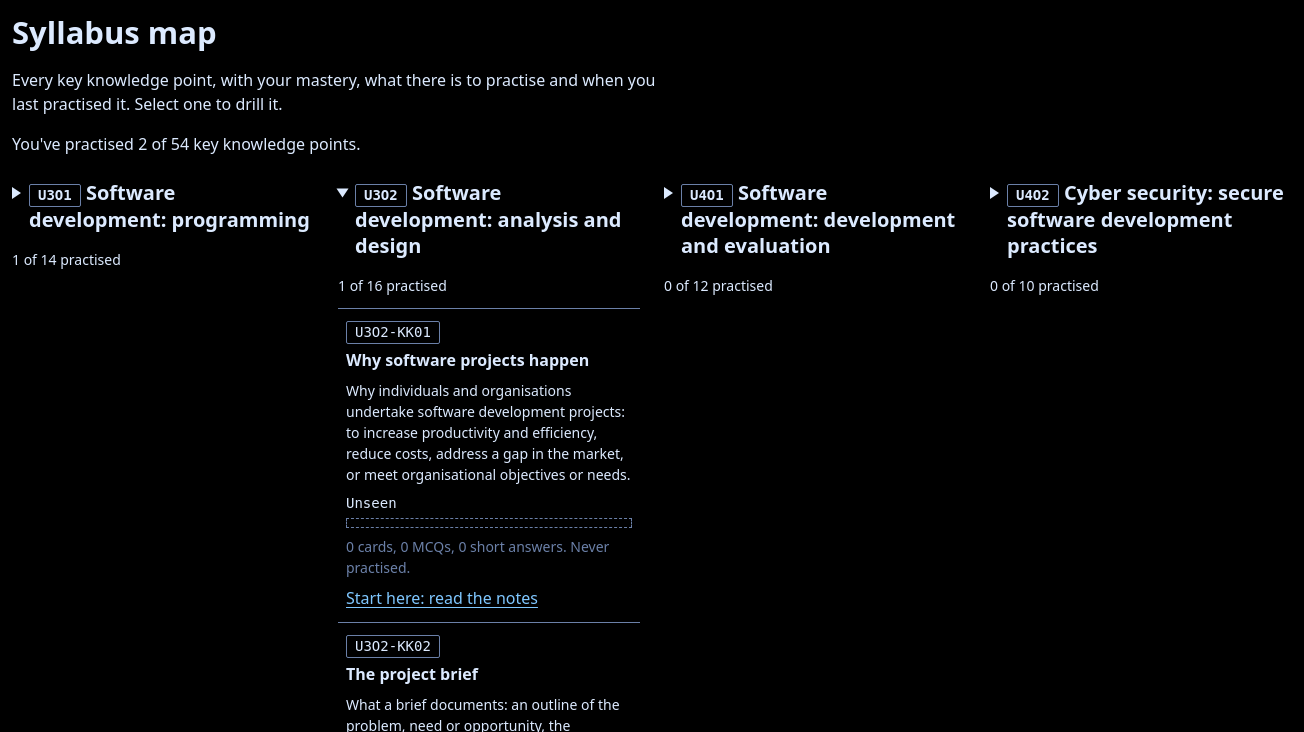
it: Syllabus map › folds each area behind a button on phones, with the weakest area open
Click the button "U3O1 Software development: programming".
click(163, 207)  # box top-left (12, 172), bottom-right (314, 241)
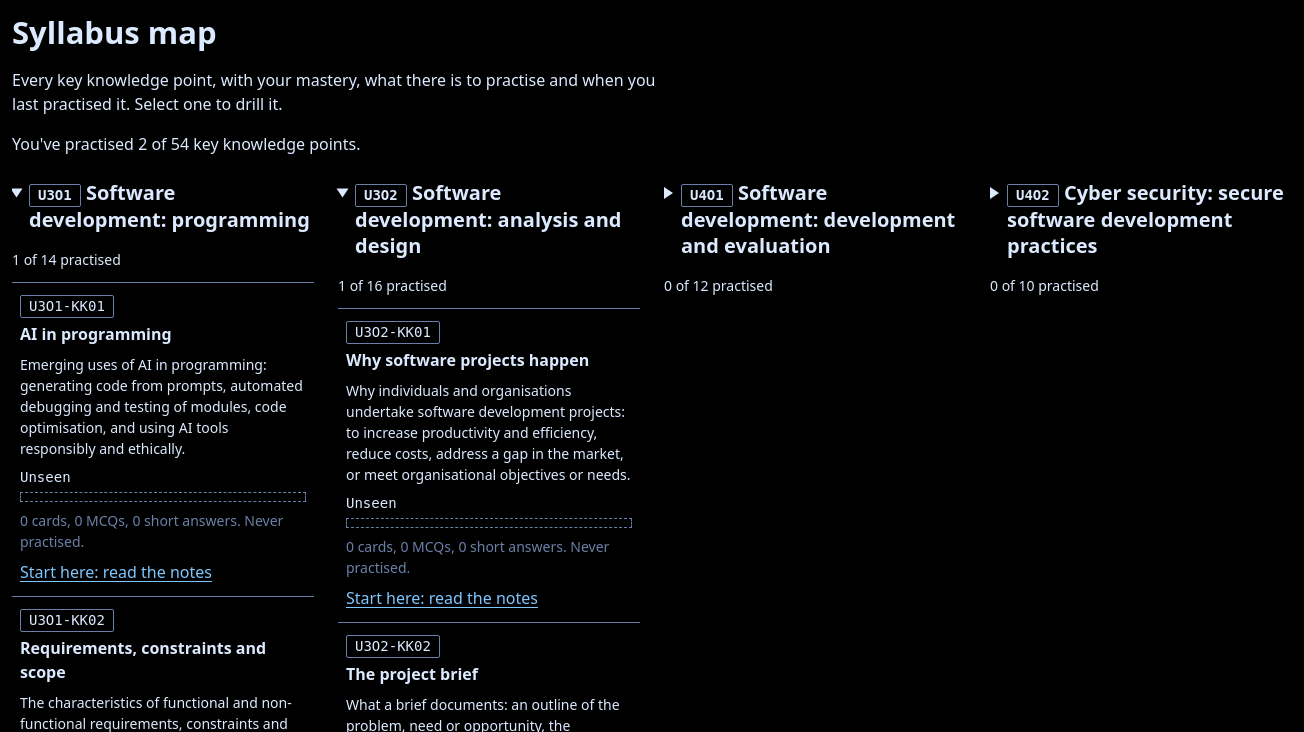
Check: the button "U3O1 Software development: programming" is expanded, box top-left (12, 172), bottom-right (314, 241)
